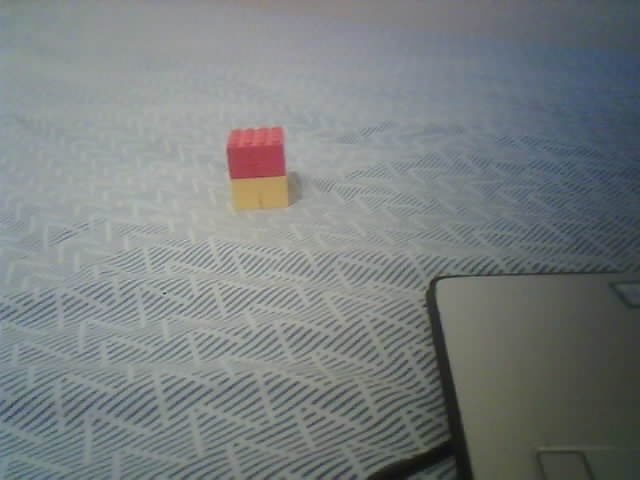lego: (225, 126, 290, 210)
